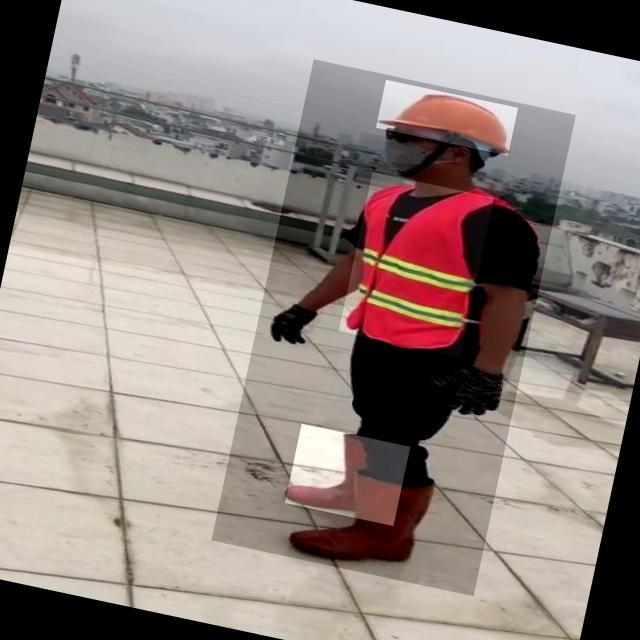Helmet: (376, 80, 518, 156)
Human: (211, 59, 575, 596)
Safety Boot: (286, 462, 435, 577), (285, 423, 411, 526)
Safety Vest: (338, 172, 493, 357)
